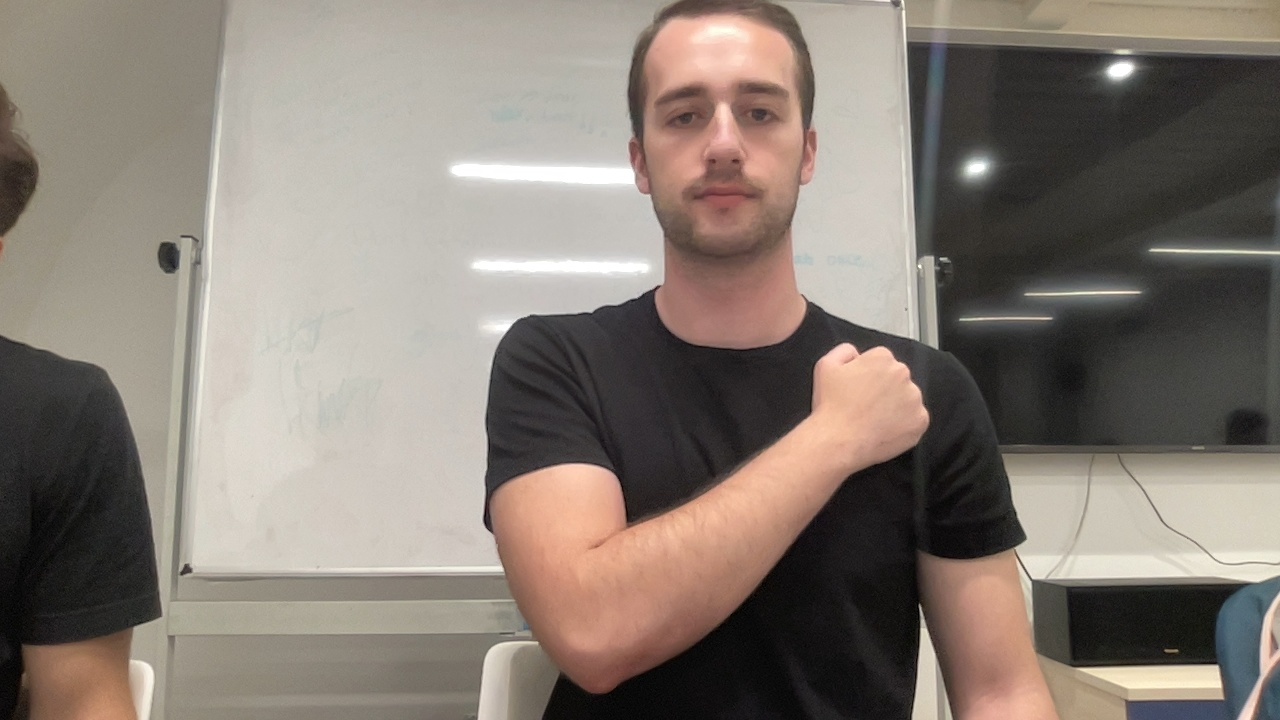Sorry: (482, 337, 935, 697)
